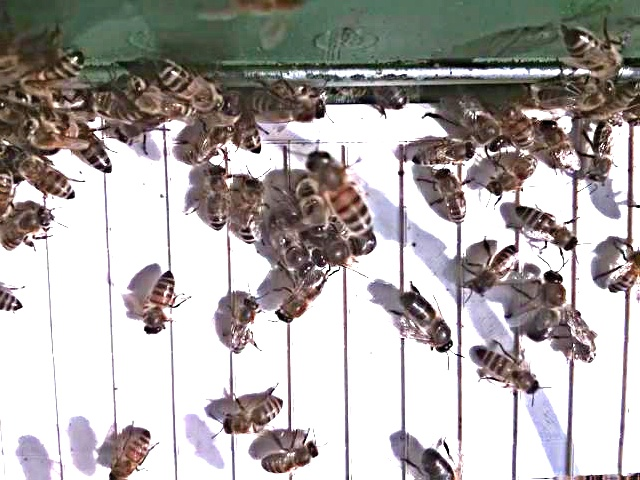Drone: (400, 288, 458, 359), (519, 270, 570, 348), (278, 267, 330, 327), (310, 234, 380, 270)
Worker: (313, 148, 374, 235), (471, 345, 542, 399), (512, 206, 585, 255), (470, 242, 523, 298), (539, 120, 585, 182), (18, 159, 81, 202), (2, 207, 56, 256), (583, 119, 619, 191), (225, 293, 263, 361), (222, 396, 286, 436), (262, 439, 325, 479), (183, 125, 238, 169), (111, 428, 157, 480), (488, 154, 542, 197), (146, 270, 179, 339), (77, 121, 116, 179), (566, 305, 600, 370), (407, 139, 478, 170), (238, 176, 268, 249), (436, 167, 471, 229), (605, 248, 640, 302), (206, 166, 233, 234)
